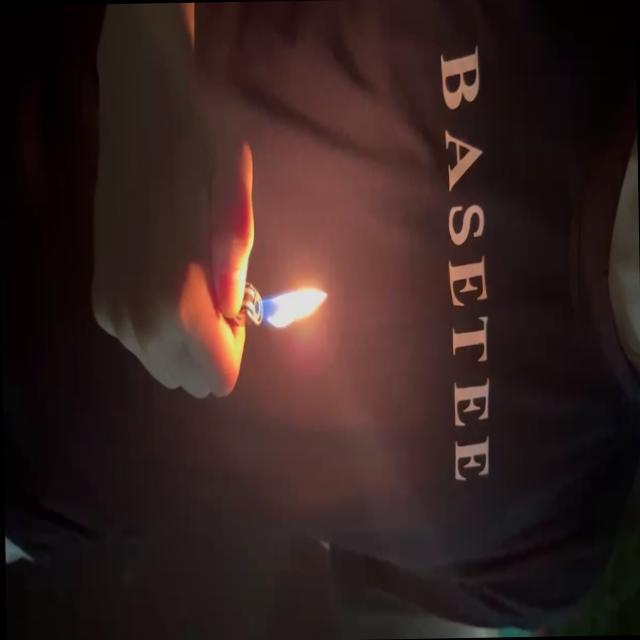Fire: (257, 285, 330, 338)
